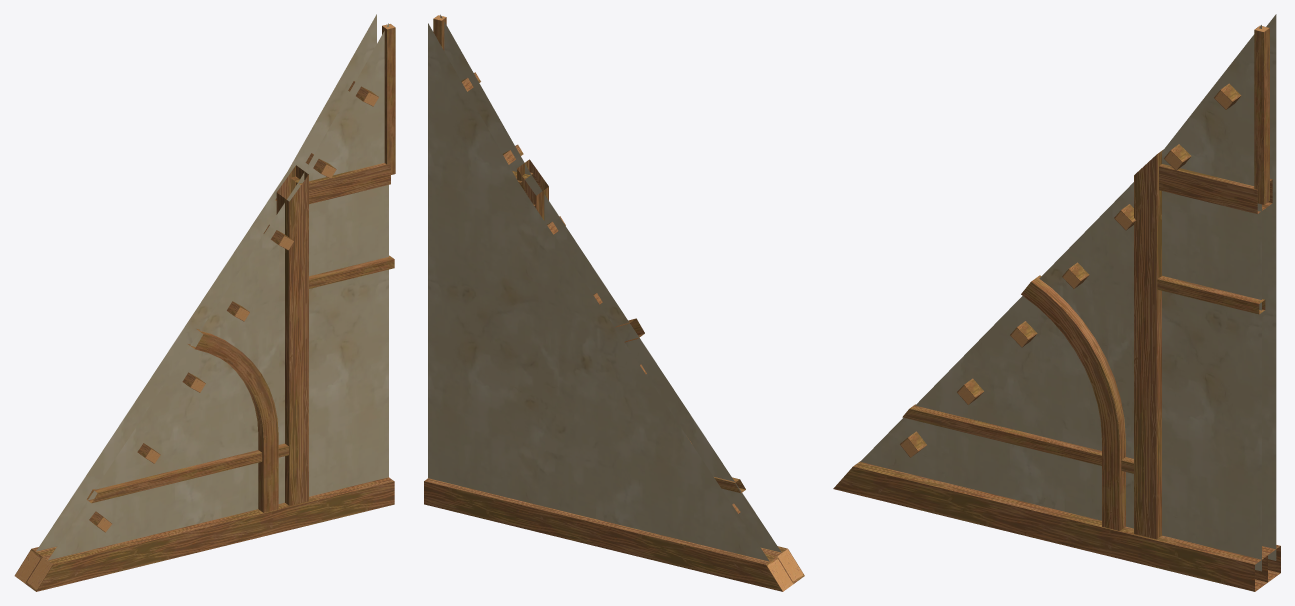
File: roof_front_brick8_half_l.glb
3 views of the same model, side by side, from view 1: azimuth 30°, elevation 25°; view 2: azimuth 150°, elevation 25°; view 3: azimuth 330°, elevation 25° (orthographic). The views are drawn at different scales.
Bounding box in the file's own units: 4.33 × 5.45 × 0.4896.
2 materials, 2 textured.
